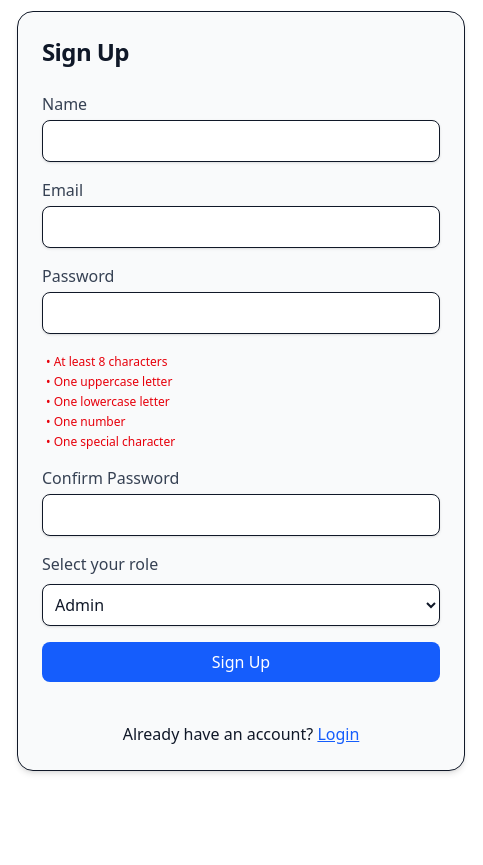
Test: Register Page - unit tests (validation & UI) › should show errors when trying to submit with empty fields
Click the button "Sign Up" at [241, 662], box [42, 642, 440, 682]
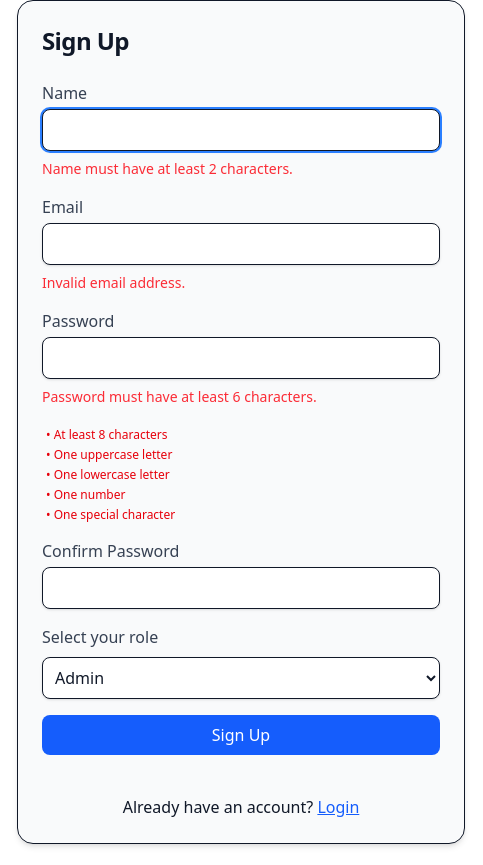
Check: the text "Name must have at least 2 characters." is shown, box [42, 159, 293, 178]
Check: the text "Invalid email address." is shown, box [42, 273, 185, 292]
Check: the text "Password must have at least 6 characters." is shown, box [42, 387, 317, 406]
